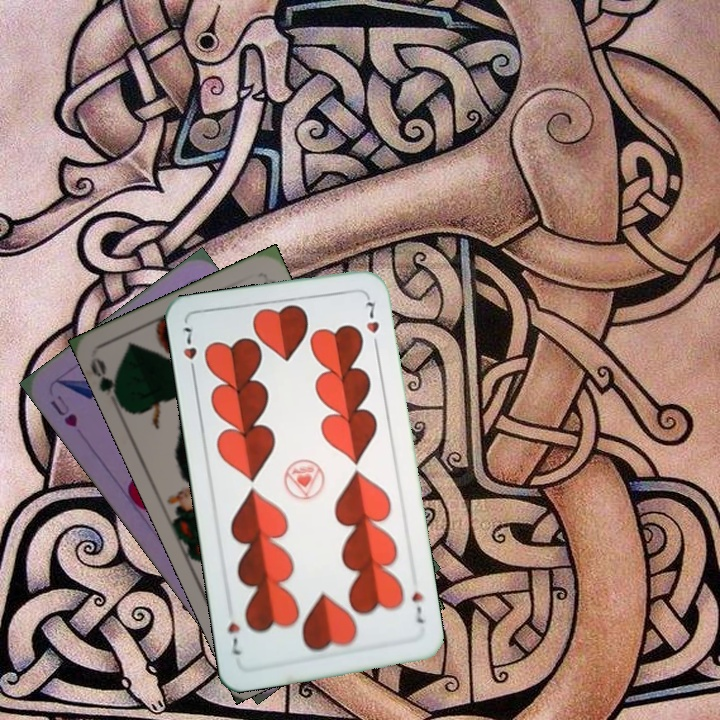GO: (86, 354, 124, 409)
H7: (178, 323, 200, 379), (407, 588, 426, 626)
HU: (46, 391, 80, 430)
